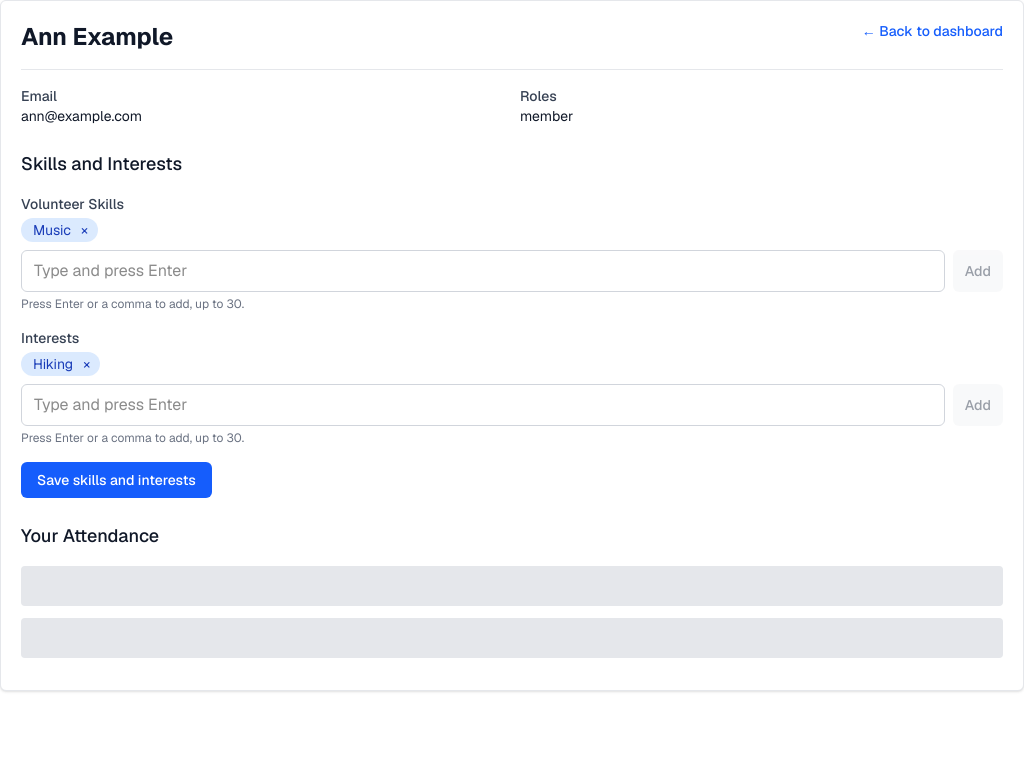
it: OwnProfile skills and interests › saves only the changed list to their own account and reloads the signed-in user
The image size is (1024, 768).
Step 1. Type "Sound desk" into the field labelled "Volunteer Skills" → (483, 271), box [21,250,945,292]
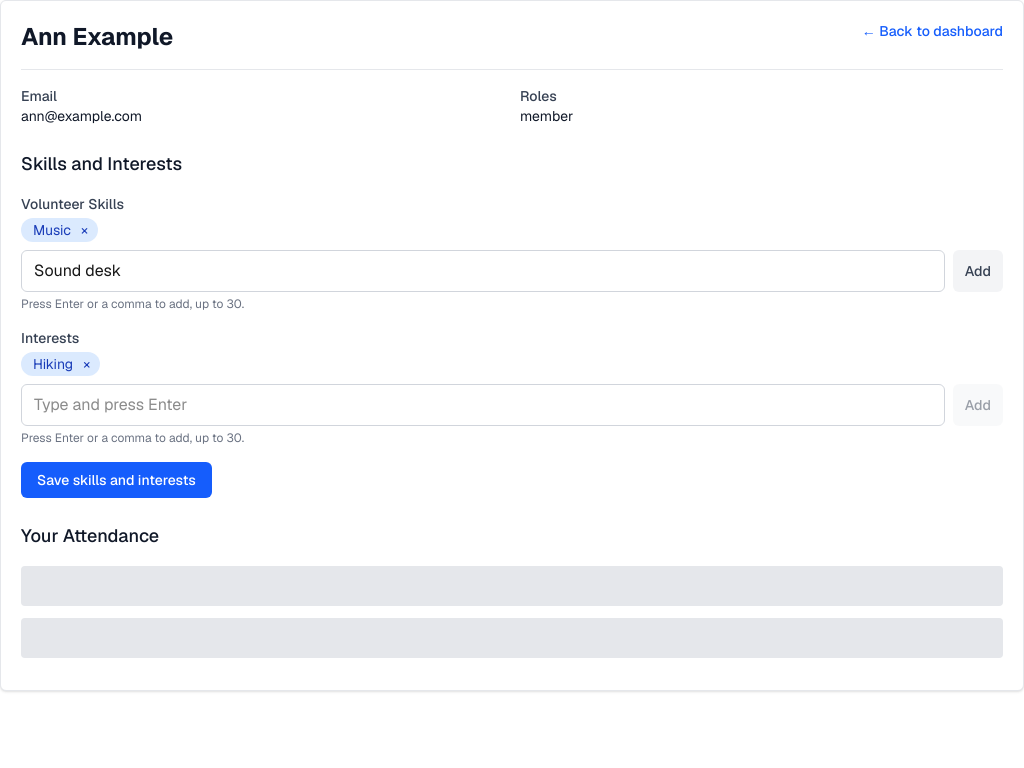
Step 2. Press Enter in the field labelled "Volunteer Skills", box [21,250,945,292]
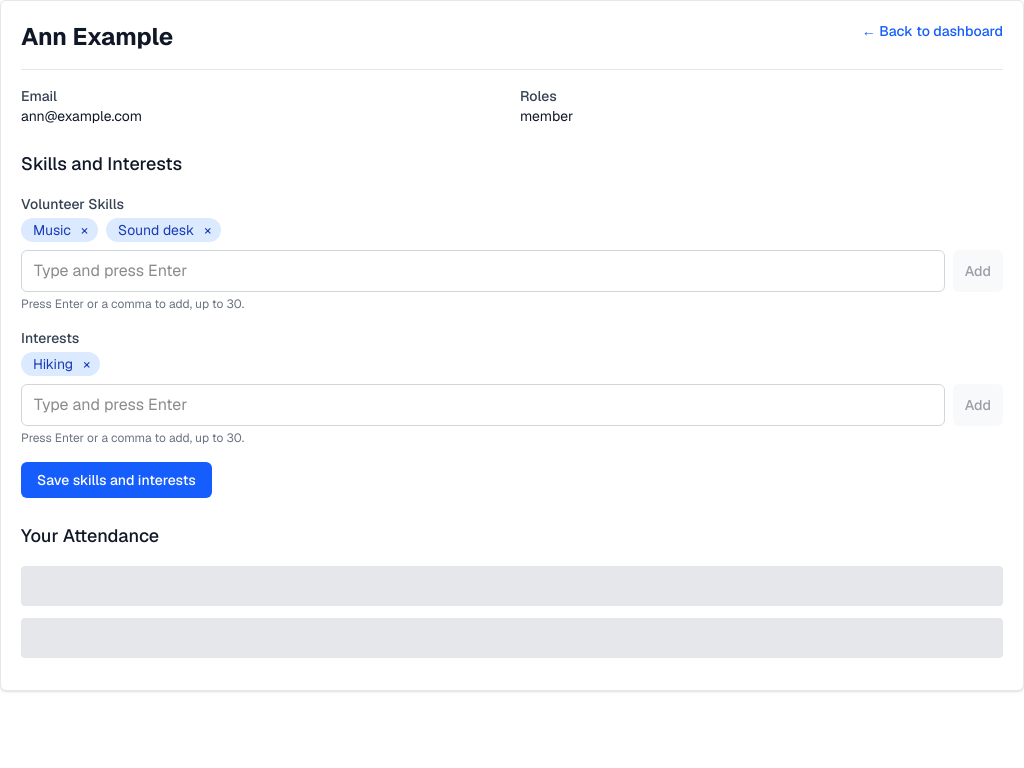
Step 3. Click the button "Save skills and interests" → (116, 480), box [21,462,212,498]
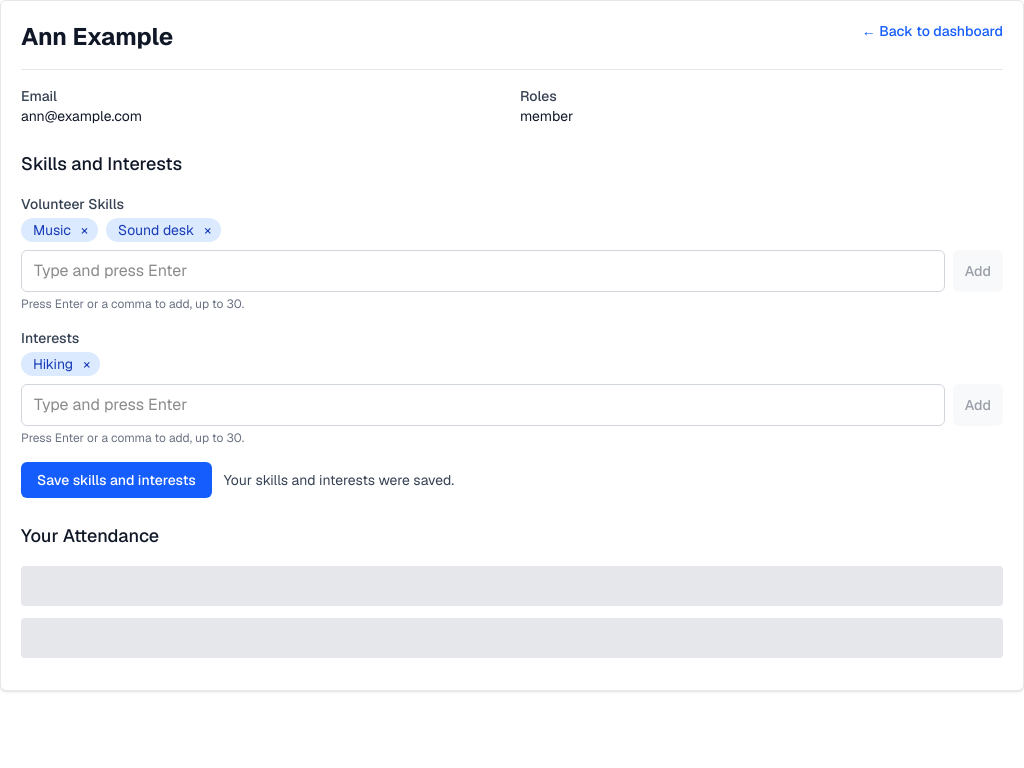
Expected: the button named "Remove Sound desk" is shown, [198,220,217,240]
Expected: the message "Your skills and interests were saved." is shown, [224,470,454,490]
